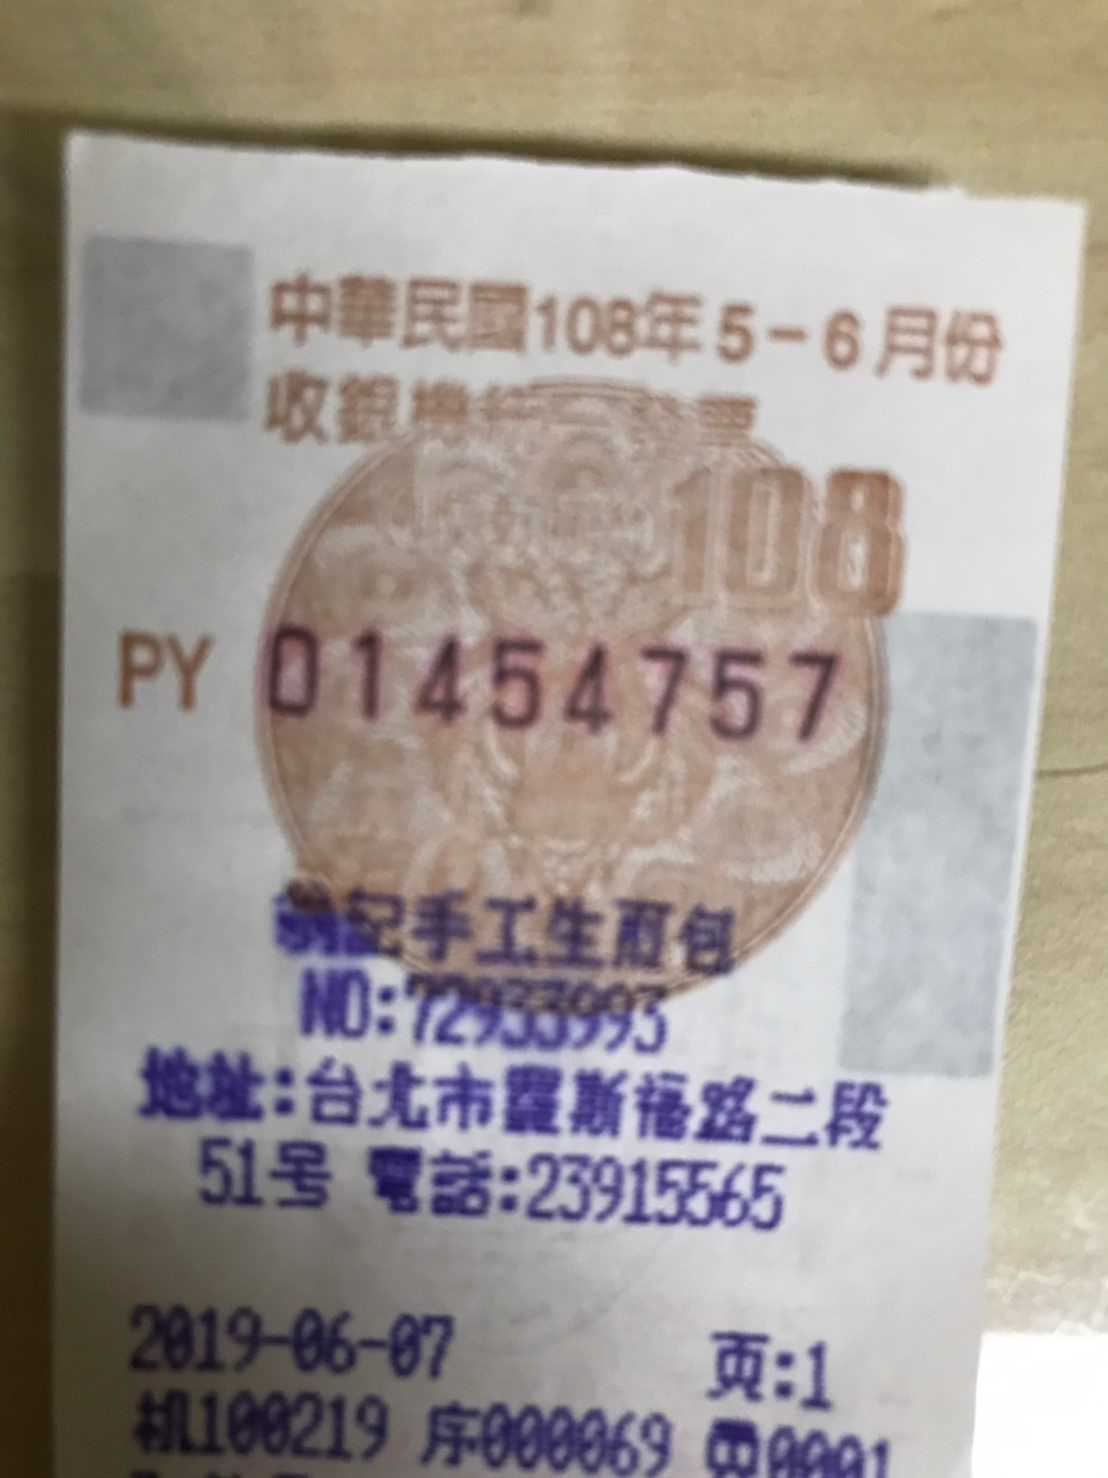Date_Old: (533, 283, 1009, 399)
Number_Old: (260, 620, 852, 747)
